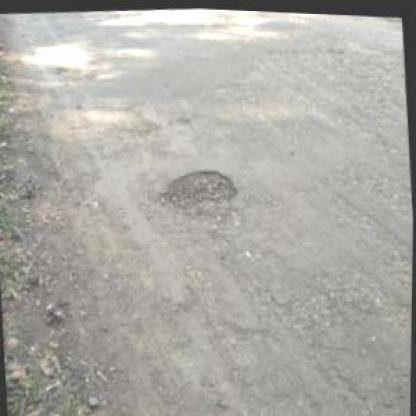pothole: (153, 161, 241, 216)
